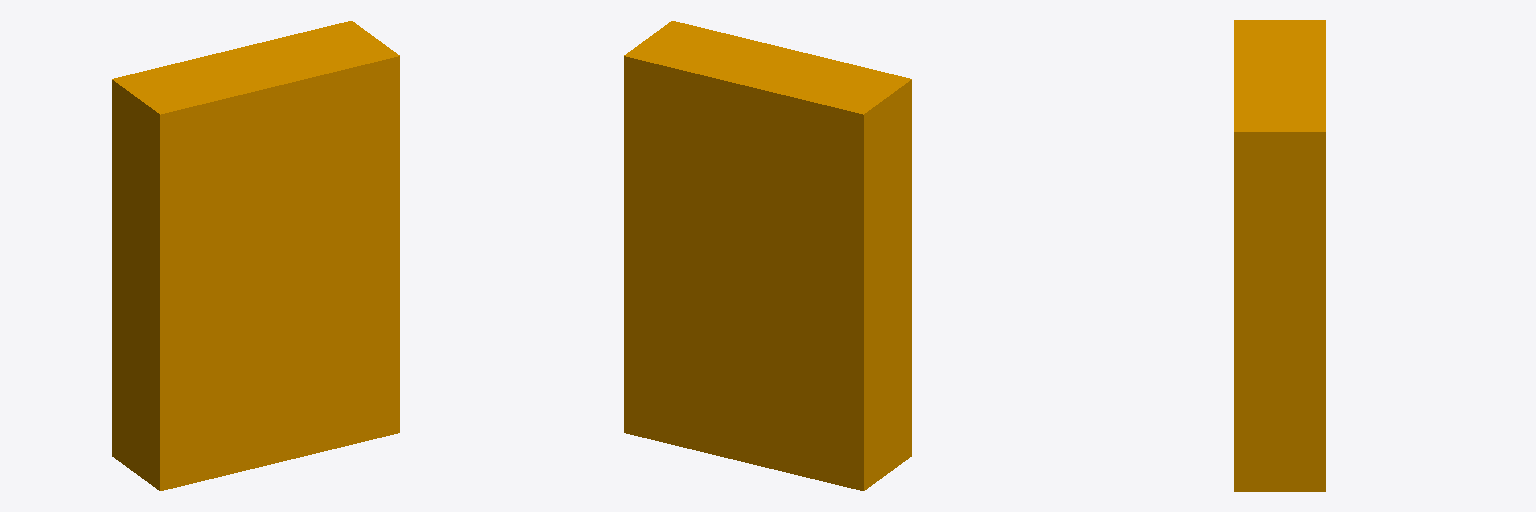
robot.urdf — Cereal Box:
<?xml version="1.0"?>
<robot name="Cereal Box">
  <link name="base_link">
    <inertial>
      <origin xyz="0.000000 0.000000 0.150000" rpy="0 0 0" />
      <mass value="2.000000" />
      <inertia ixx="0.01581667" ixy="-0.00000000" ixz="-0.00000000"
               iyy="0.02166667" iyz="-0.00000000" izz="0.00748333" />
    </inertial>
    <visual>
      <geometry><mesh filename="Cereal Box.stl" scale="1.0 1.0 1.0" /></geometry>
    </visual>
    <collision>
      <geometry><mesh filename="Cereal Box_col.obj" scale="1.0 1.0 1.0" /></geometry>
    </collision>
  </link>
</robot>

--- What the picture shows (computed from the rendered views, not written in the file) ---
Views: 3 orthographic renders of the robot side by side, from view 1: azimuth 30°, elevation 25°; view 2: azimuth 150°, elevation 25°; view 3: azimuth 270°, elevation 25°.
Robot: Cereal Box — 1 links, 0 joints (none); root link base_link; default pose: all joints at 0.
Visible links, largest first — view 1: base_link; view 2: base_link; view 3: base_link.
Link boxes in pixels (x1,y1,x2,y2): base_link: (112, 21, 399, 490); base_link: (624, 21, 911, 490); base_link: (1234, 20, 1325, 491).
Bounding box of the posed robot: 0.2 × 0.07 × 0.3 m (x, y, z).
1 mesh visuals loaded from 1 distinct referenced files (1 binary STL).
